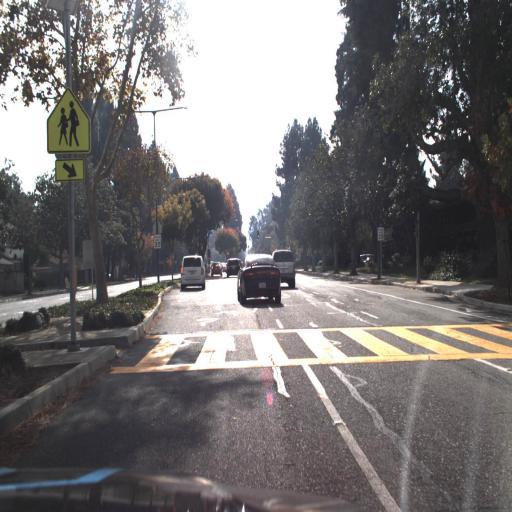car: (235, 252, 284, 303), (273, 245, 298, 287), (178, 254, 205, 290), (225, 254, 242, 281), (224, 255, 242, 278), (209, 261, 222, 281), (209, 259, 222, 278), (211, 259, 222, 274)
